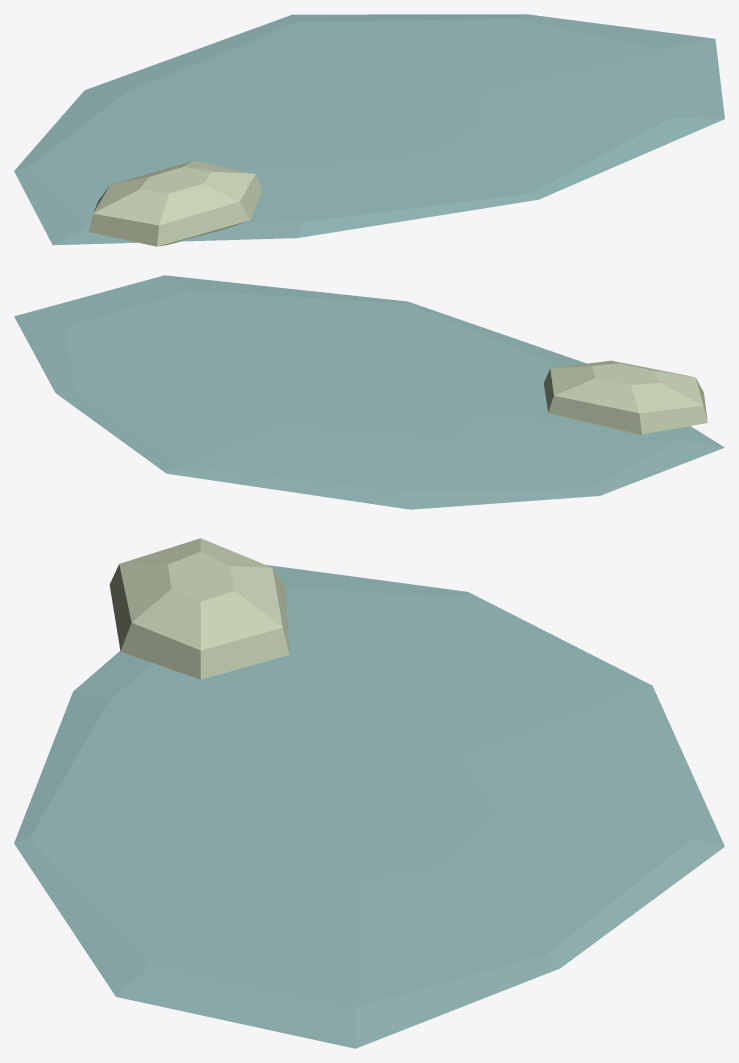
Rendered from puddle.glb.
3 renders of one model, top to bottom at view 1: azimuth 30°, elevation 25°; view 2: azimuth 150°, elevation 25°; view 3: azimuth 270°, elevation 25°, orthographic. The views are drawn at different scales.
Parts seen in each view (by area): view 1: puddle; view 2: puddle; view 3: puddle.
Boxes of the visible parts, x1,y1,x2,y2 form: puddle: [14, 14, 724, 246]; puddle: [14, 275, 724, 509]; puddle: [14, 538, 724, 1048].
Bounding box in the file's own units: 1.87 × 0.1175 × 1.15.
